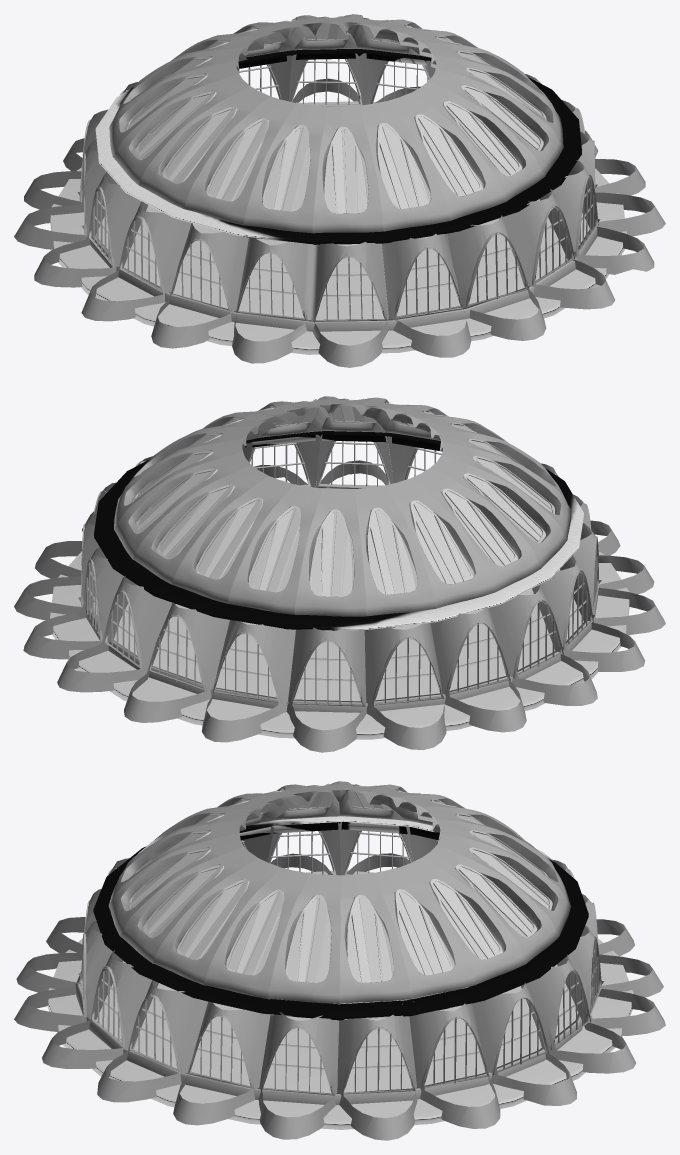
File: Building 1.fbx
3 renders of one model, top to bottom at view 1: azimuth 30°, elevation 25°; view 2: azimuth 150°, elevation 25°; view 3: azimuth 270°, elevation 25°, orthographic.
Visible parts, largest first — view 1: SM_Dome_slice5_Window_low, polySurface279, pasted__polySurface185, polySurface422, polySurface241, polySurface421; view 2: SM_Dome_slice5_Window_low, polySurface279, pasted__polySurface185, polySurface422, polySurface241, polySurface421; view 3: SM_Dome_slice5_Window_low, polySurface279, pasted__polySurface185, polySurface241, polySurface422, polySurface421.
Boxes of the visible parts, x1,y1,x2,y2 form: SM_Dome_slice5_Window_low: [109, 14, 563, 233]; polySurface279: [14, 53, 665, 367]; pasted__polySurface185: [50, 101, 626, 354]; polySurface422: [79, 59, 598, 321]; polySurface241: [95, 49, 581, 244]; polySurface421: [90, 227, 597, 331]; SM_Dome_slice5_Window_low: [114, 396, 571, 616]; polySurface279: [14, 434, 665, 752]; pasted__polySurface185: [50, 484, 629, 739]; polySurface422: [81, 441, 599, 707]; polySurface241: [94, 431, 583, 630]; polySurface421: [86, 487, 598, 712]; SM_Dome_slice5_Window_low: [108, 781, 570, 1003]; polySurface279: [14, 822, 665, 1140]; pasted__polySurface185: [47, 870, 633, 1129]; polySurface241: [93, 816, 588, 1020]; polySurface422: [80, 830, 601, 1096]; polySurface421: [75, 971, 593, 1105].
Bounding box in the file's own units: 1535 × 449 × 1537.
